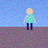person: (23, 8, 35, 30)
